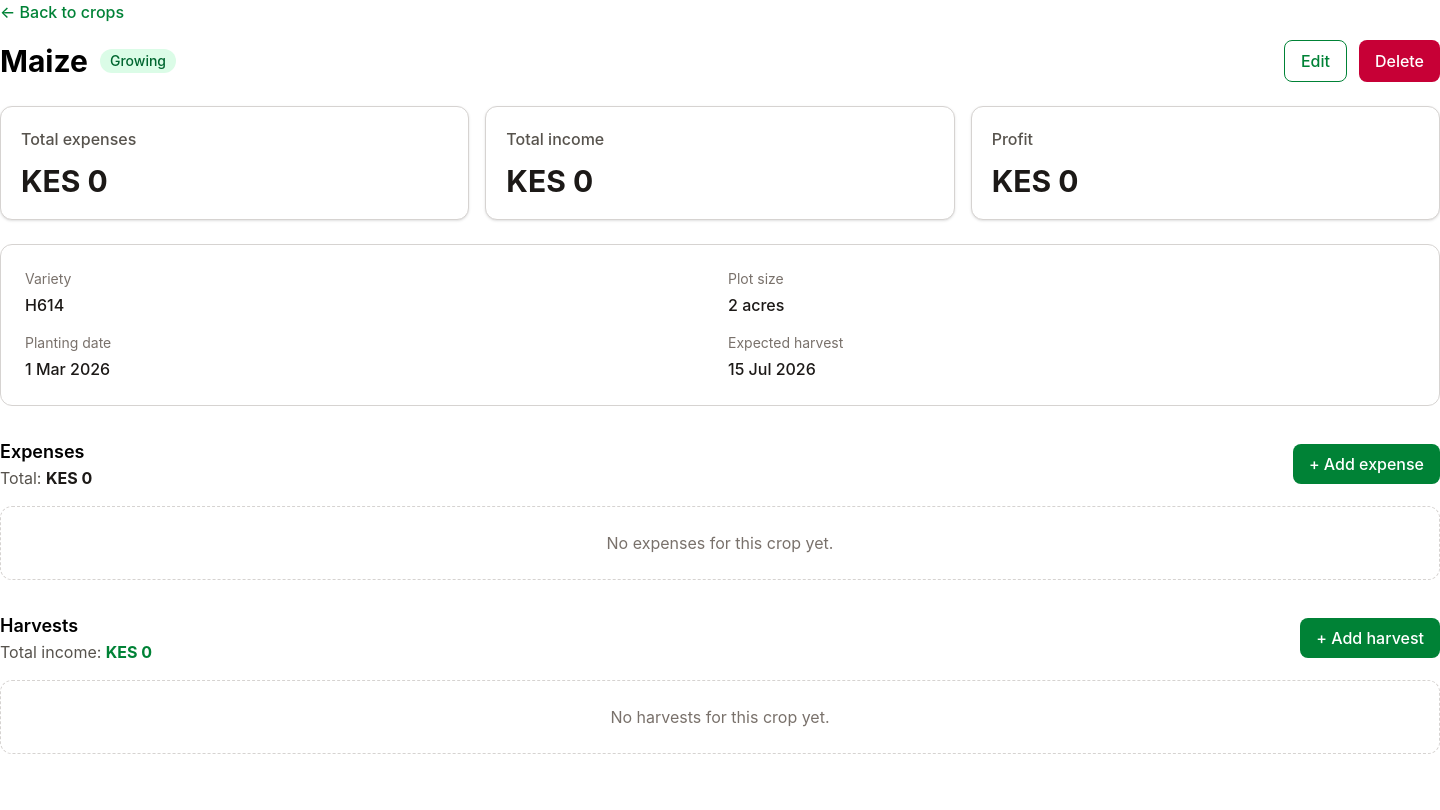
Test: CropDetails page › edits the crop
Click the button "Edit" at (1315, 61), box left=1284, top=40, right=1347, bottom=82
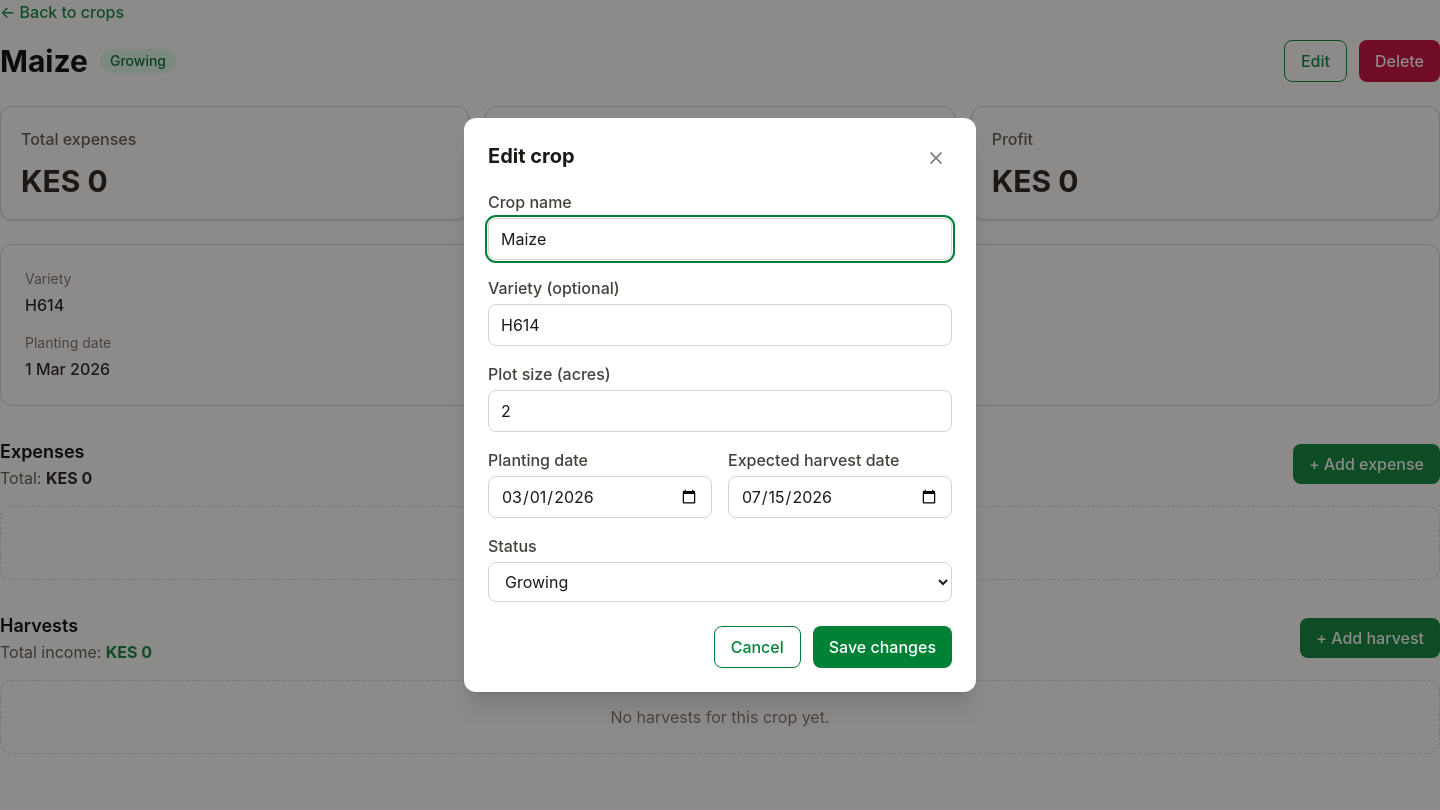
Replace the text in the field labelled "Crop name" with "Yellow maize" at (720, 239), box left=488, top=218, right=952, bottom=260
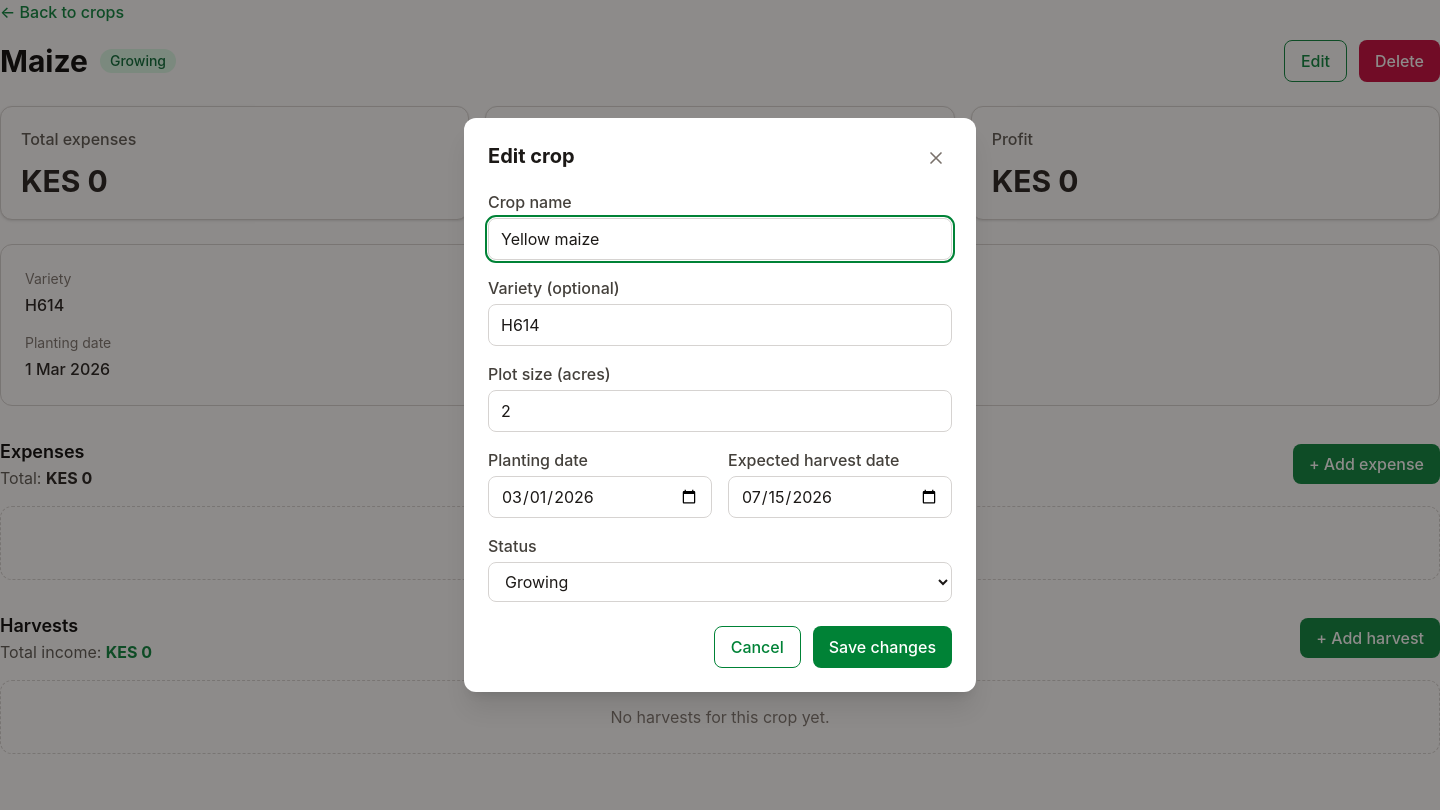
Click the button "Save changes" at (882, 647), box left=813, top=626, right=952, bottom=668
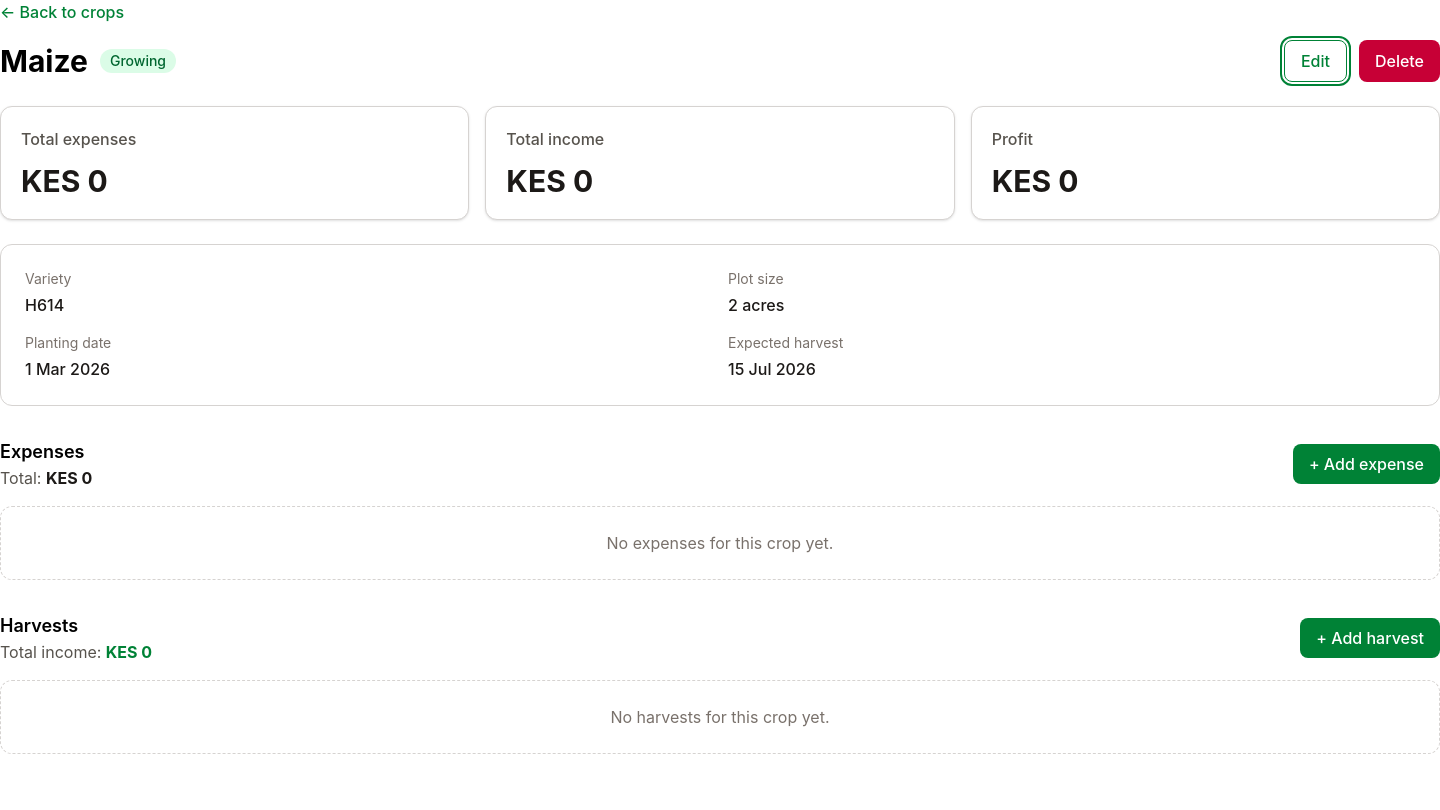
Expected: the dialog is gone
